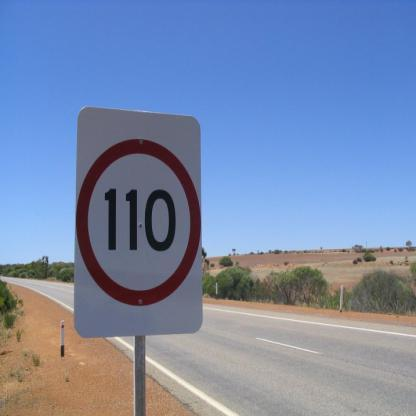Speed Limit 110: (80, 138, 202, 305)
